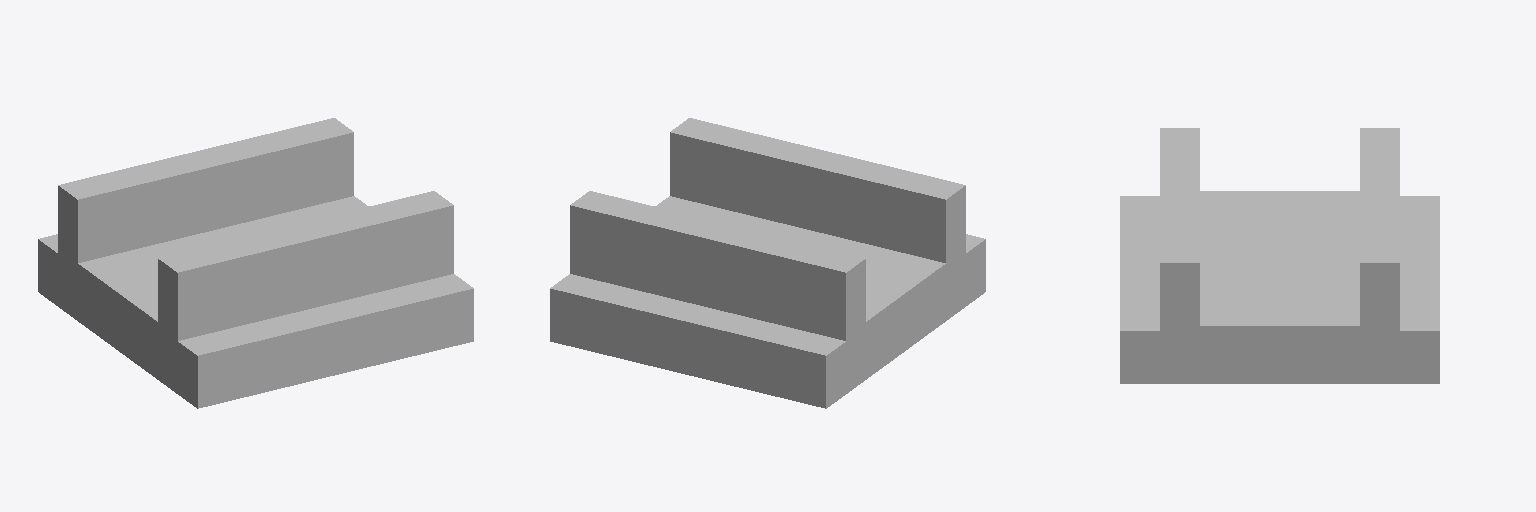
Rendered from tile099.obj.
3 views of the same model, side by side, from view 1: azimuth 30°, elevation 25°; view 2: azimuth 150°, elevation 25°; view 3: azimuth 270°, elevation 25° (orthographic).
Parts seen in each view (by area): view 1: tile099; view 2: tile099; view 3: tile099.
Boxes of the visible parts, x1,y1,x2,y2 form: tile099: [38, 118, 473, 408]; tile099: [550, 118, 985, 408]; tile099: [1120, 128, 1439, 383].
Size of the model in its own units: 1 by 0.42 by 1.